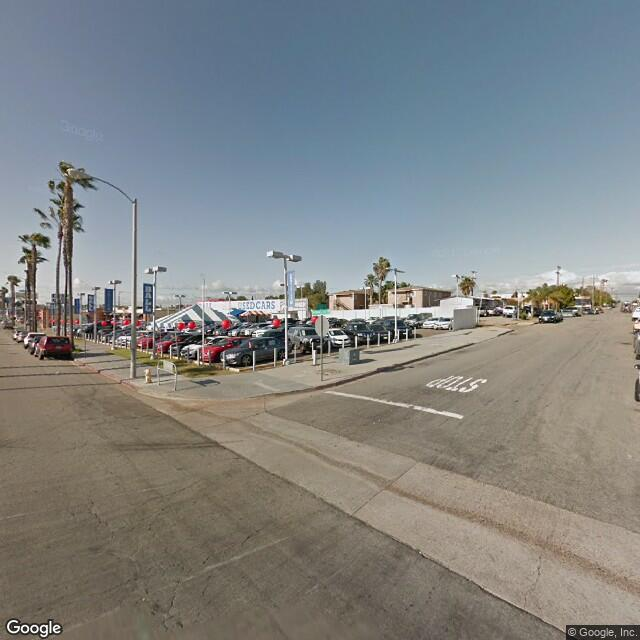litter: (53, 368, 67, 384)
